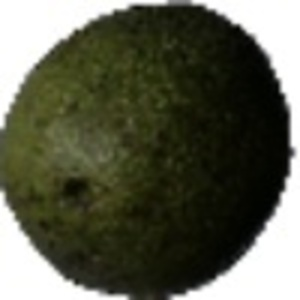abacate: (5, 4, 294, 294)
